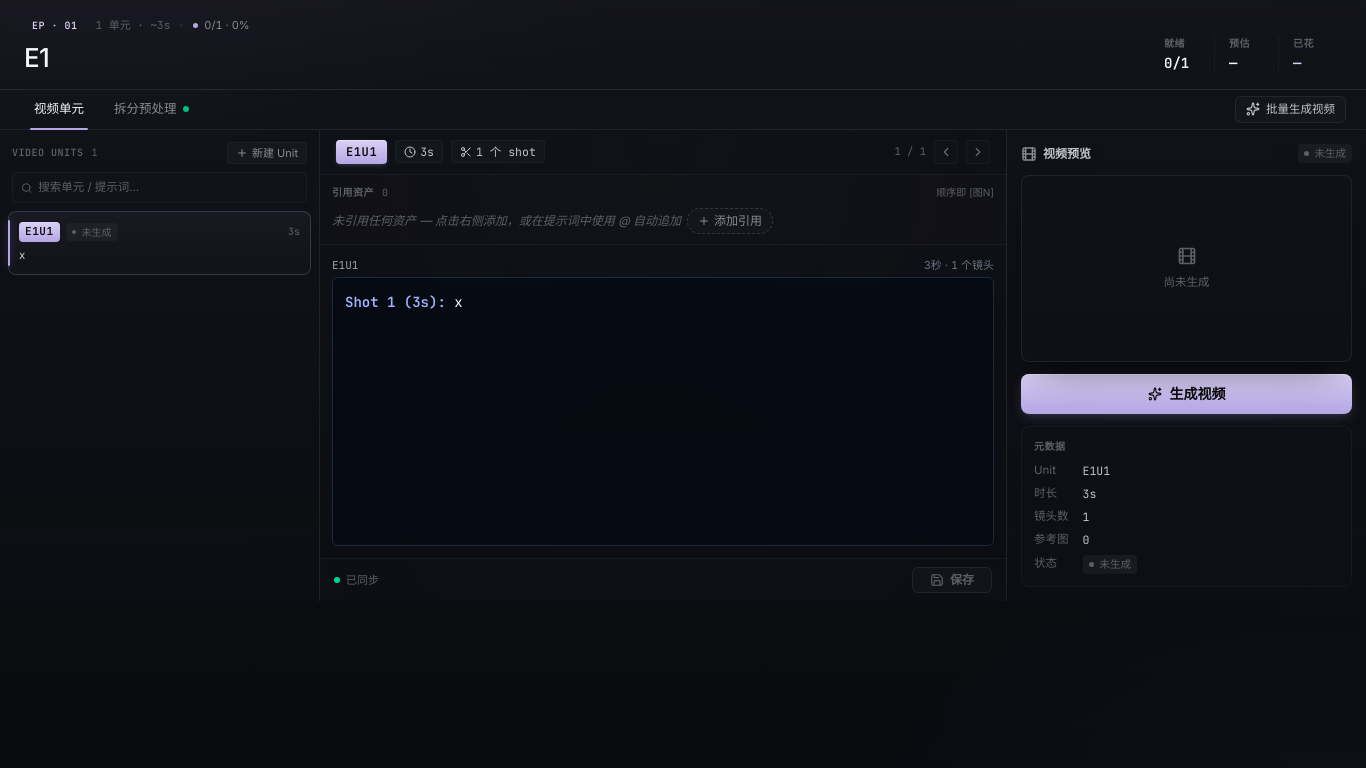
Test case: ReferenceVideoCanvas › flips the generate button to busy optimistically before the task poll picks it up
Click the button "批量生成视频" at (1290, 109), box left=1235, top=96, right=1346, bottom=123
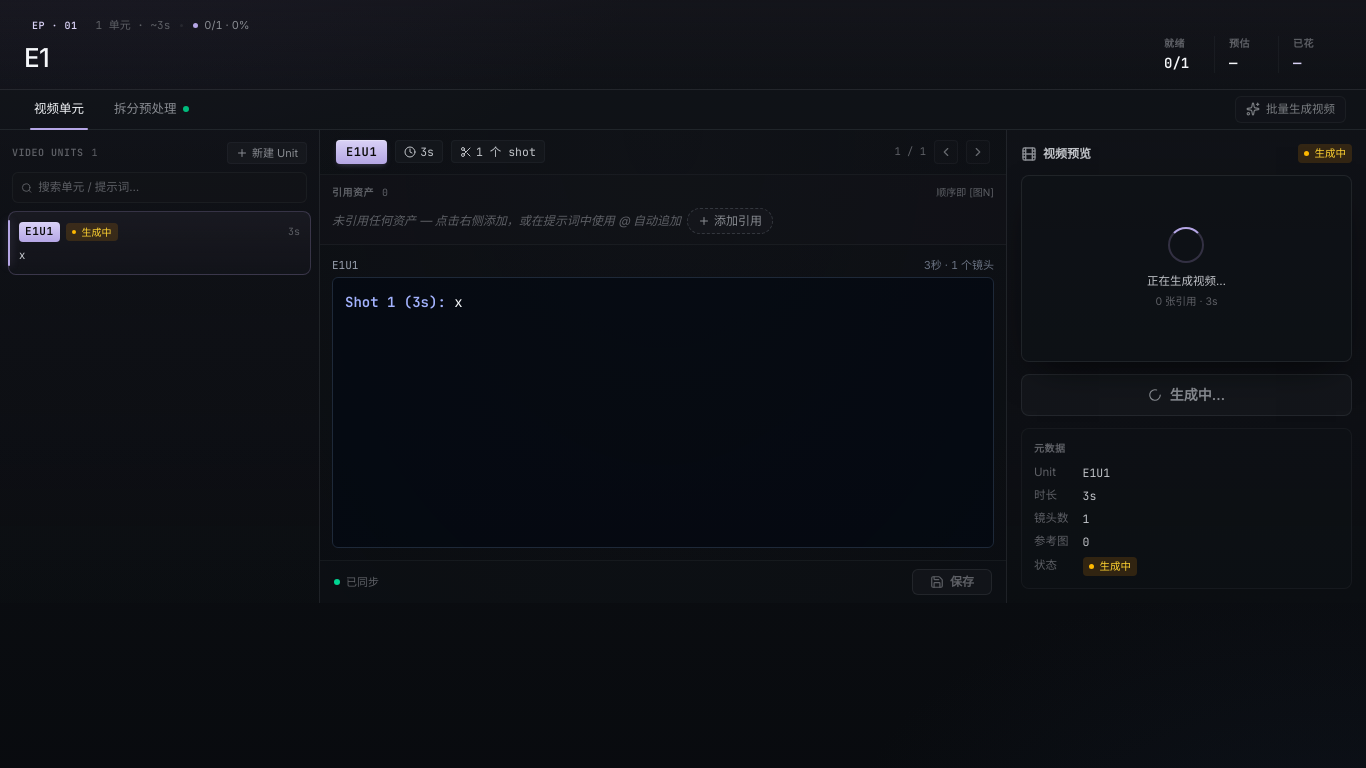
Now the button "生成中…" is disabled, box left=1021, top=374, right=1352, bottom=416
